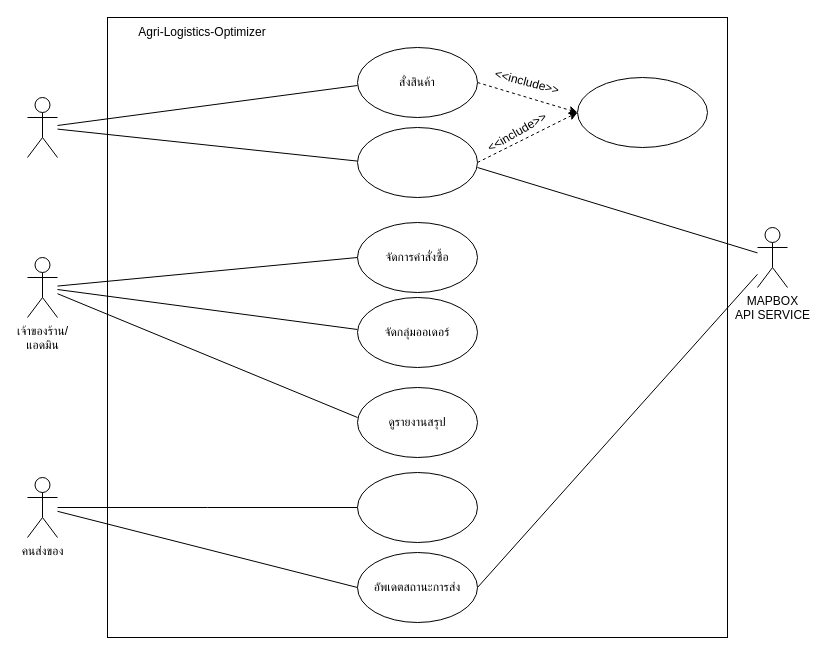
The diagram is 827 pixels wide and 655 high, and some of its shapes have lost their labels. The centre of each missing label's shape, as x and y in pixels:
"Log-in" goes at point 642,112.
"ดูรายการของที่ส่ง" goes at point 417,507.
"ปักหมุดส่งของ" goes at point 417,162.
"ลูกค้า" goes at point 42,127.
